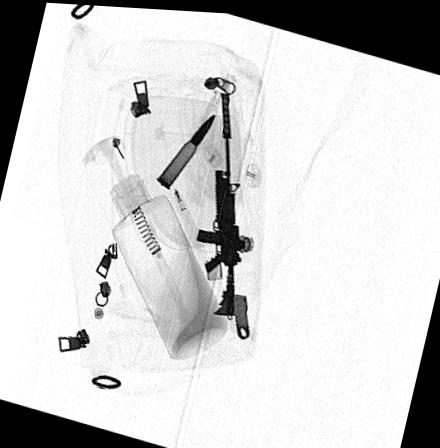Bullet: (155, 110, 213, 185)
Gun: (195, 85, 245, 313)
